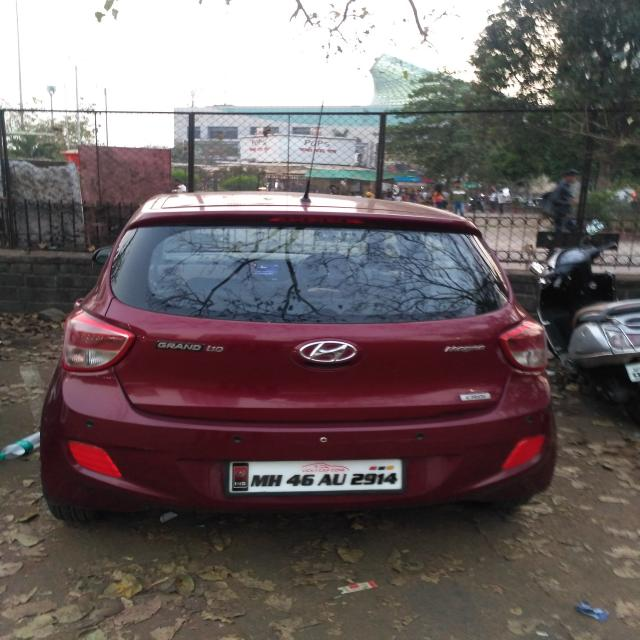Number-Plate: (232, 459, 406, 494)
